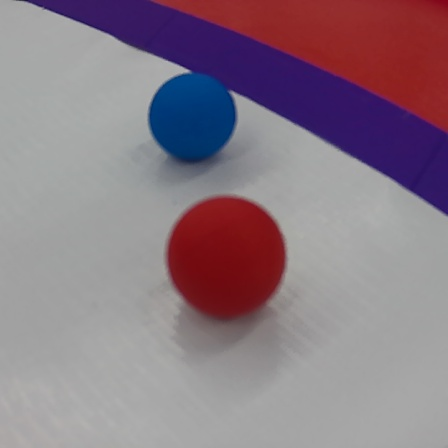blue: (145, 69, 242, 165)
red: (164, 192, 288, 325)
red_aim: (0, 0, 447, 233)
